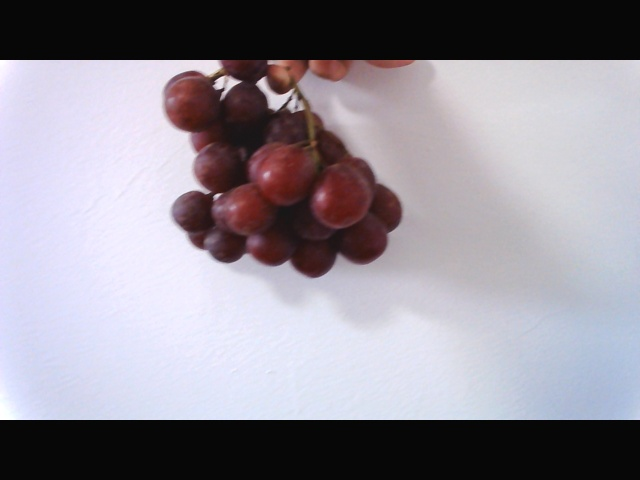grape: (150, 66, 405, 285)
